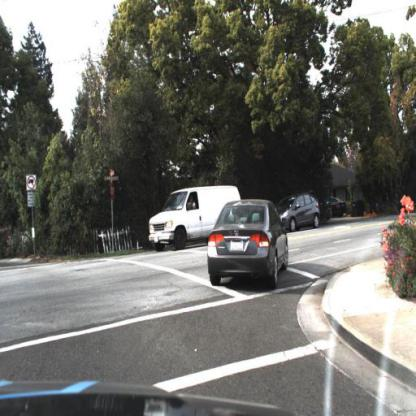car: (199, 195, 295, 303), (149, 180, 245, 254), (274, 191, 329, 238), (326, 194, 349, 222)
